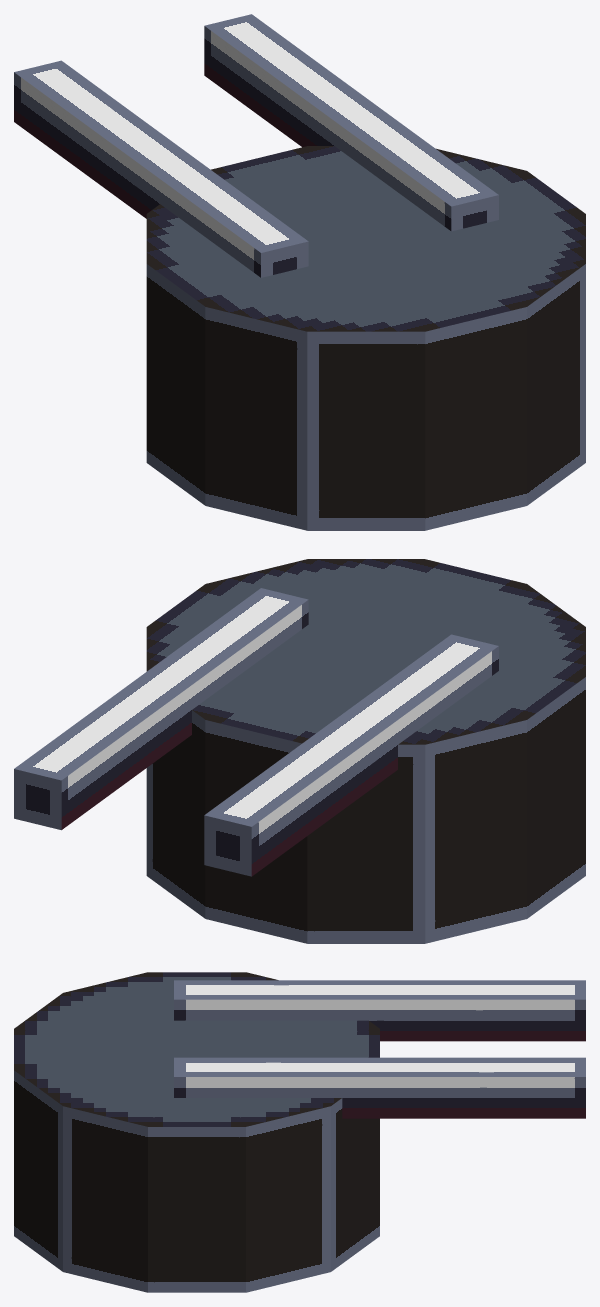
File: enemy_sniper.gltf
The picture shows the model from 3 angles, top to bottom: view 1: azimuth 30°, elevation 25°; view 2: azimuth 150°, elevation 25°; view 3: azimuth 270°, elevation 25°; orthographic projection. The views are drawn at different scales.
Parts seen in each view (by area): view 1: cylinder, cube (×2); view 2: cylinder, cube (×2); view 3: cylinder, cube (×2).
Part boxes in pixels (x1,y1,x2,y2): cylinder: (146,146,585,530); cube (×2): (14,14,498,277); cylinder: (146,559,585,943); cube (×2): (14,588,498,876); cylinder: (14,972,379,1292); cube (×2): (174,980,585,1118).
Size of the model in its own units: 1 by 0.5625 by 1.56.
1 material, 1 textured.
